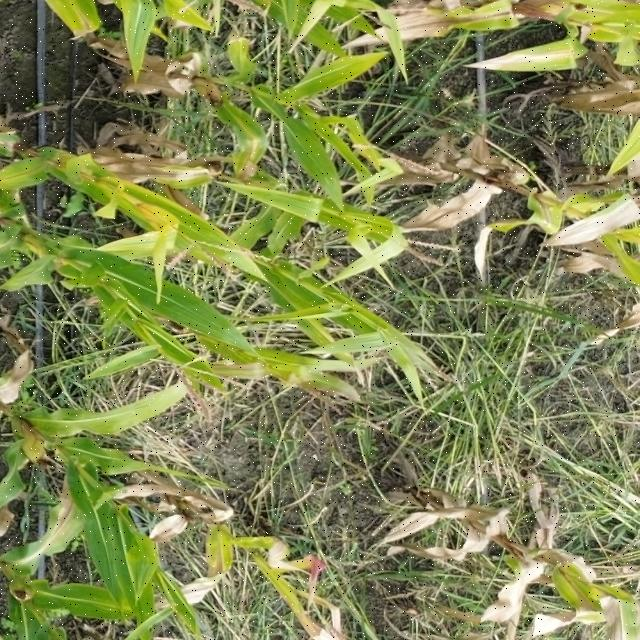northern-leaf-blight: (362, 6, 510, 51), (234, 528, 317, 581), (234, 111, 285, 191)
